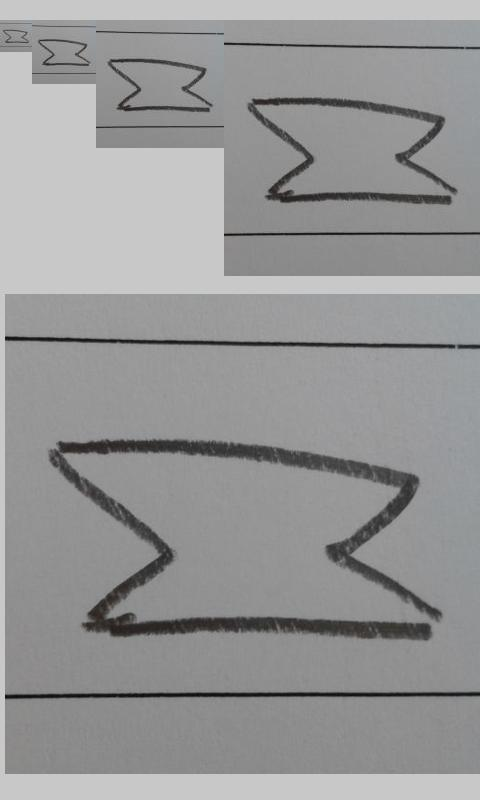edit_text: (48, 439, 441, 644), (248, 97, 457, 205), (107, 58, 215, 113), (38, 39, 90, 66), (3, 29, 29, 44)
